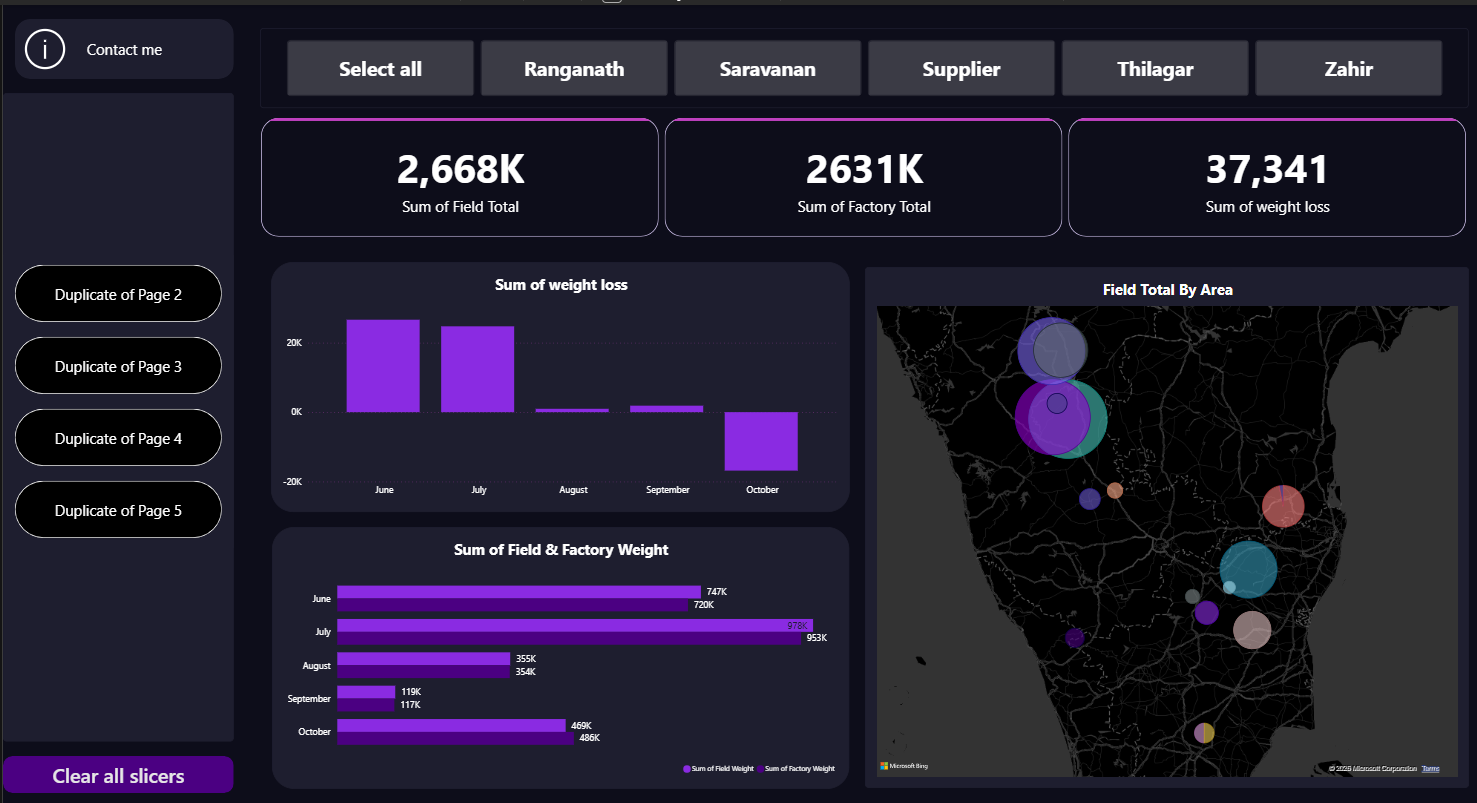

The dashboard page shown, as its layout file describes it:
{"tool":"powerbi","page":{"name":"Duplicate of Page 1","canvas":[2000,1080],"ordinal":0},"visuals":[{"type":"group","id":"g1","title":"Group 1","box":[346.9,31,1629.4,1025.6],"z":0},{"type":"advancedSlicerVisual","fields":{"Values":["Field Details.Manager"]},"box":[346.9,31,1629.4,107.8],"z":0,"group":"g1"},{"type":"shape","box":[0,118.5,311.1,874],"z":1000},{"type":"lineClusteredColumnComboChart","title":"Sum of weight loss","fields":{"Category":["Field Details.Factory Date.Variation.Date Hierarchy.Month"],"Y":["Sum(Field Details.weight loss)"]},"box":[362.1,346.4,780.3,336.9],"z":1000,"group":"g1"},{"type":"actionButton","box":[16.2,18.9,294.9,80.8],"z":2000},{"type":"map","title":"Field Total By Area","fields":{"Category":["Field Details.PIN CODE"],"Size":["Sum(Field Details.Field Total)"],"Series":["Field Details.Area/Agent"]},"box":[1162.3,353.1,814,702.2],"z":2000,"group":"g1"},{"type":"cardVisual","fields":{"Data":["Sum(Field Details.Field Total)","Sum(Field Details.Factory Total)","Sum(Field Details.weight loss)"]},"box":[348.4,152.3,1625.3,160.4],"z":3000,"group":"g1"},{"type":"actionButton","box":[0,1012.7,311.1,49.8],"z":3000},{"type":"pageNavigator","box":[0,333.8,310.8,400],"z":4000},{"type":"clusteredBarChart","title":"Sum of Field & Factory Weight","fields":{"Category":["Field Details.Factory Date.Variation.Date Hierarchy.Month"],"Y":["Sum(Field Details.Field Total)","Sum(Field Details.Factory Total)"]},"box":[363.1,703.5,777.6,353.1],"z":4000,"group":"g1"}]}

Visuals, with their boxes on the page's 2000x1080 design canvas (x1, y1, x2, y2). These are canvas units, not pixel positions in the 1477x803 screenshot, which may show the page scaled, cropped or inside an application window:
"Group 1" group: box(347, 31, 1976, 1057)
advancedSlicerVisual - Field Details.Manager: box(347, 31, 1976, 139)
shape: box(0, 118, 311, 992)
"Sum of weight loss" lineClusteredColumnComboChart: box(362, 346, 1142, 683)
actionButton: box(16, 19, 311, 100)
"Field Total By Area" map: box(1162, 353, 1976, 1055)
cardVisual - Sum(Field Details.Field Total) x Sum(Field Details.Factory Total): box(348, 152, 1974, 313)
actionButton: box(0, 1013, 311, 1062)
pageNavigator: box(0, 334, 311, 734)
"Sum of Field & Factory Weight" clusteredBarChart: box(363, 704, 1141, 1057)
